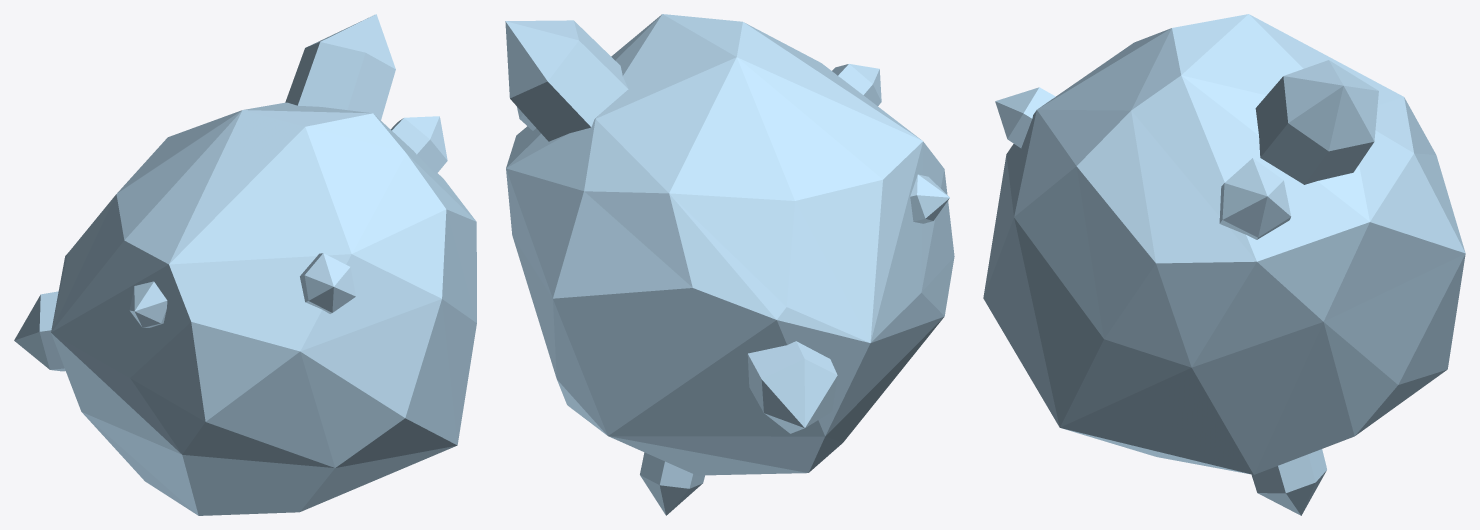
File: CauBangPhaLe.fbx
3 views of the same model, side by side, from view 1: azimuth 30°, elevation 25°; view 2: azimuth 150°, elevation 25°; view 3: azimuth 270°, elevation 25° (orthographic). The views are drawn at different scales.
Visible parts, largest first — view 1: CauBang; view 2: CauBang; view 3: CauBang.
Boxes of the visible parts, x1,y1,x2,y2 form: CauBang: (14,14,476,515); CauBang: (505,14,954,515); CauBang: (983,14,1465,515).
Size of the model in its own units: 0.9831 by 1.16 by 1.01.
